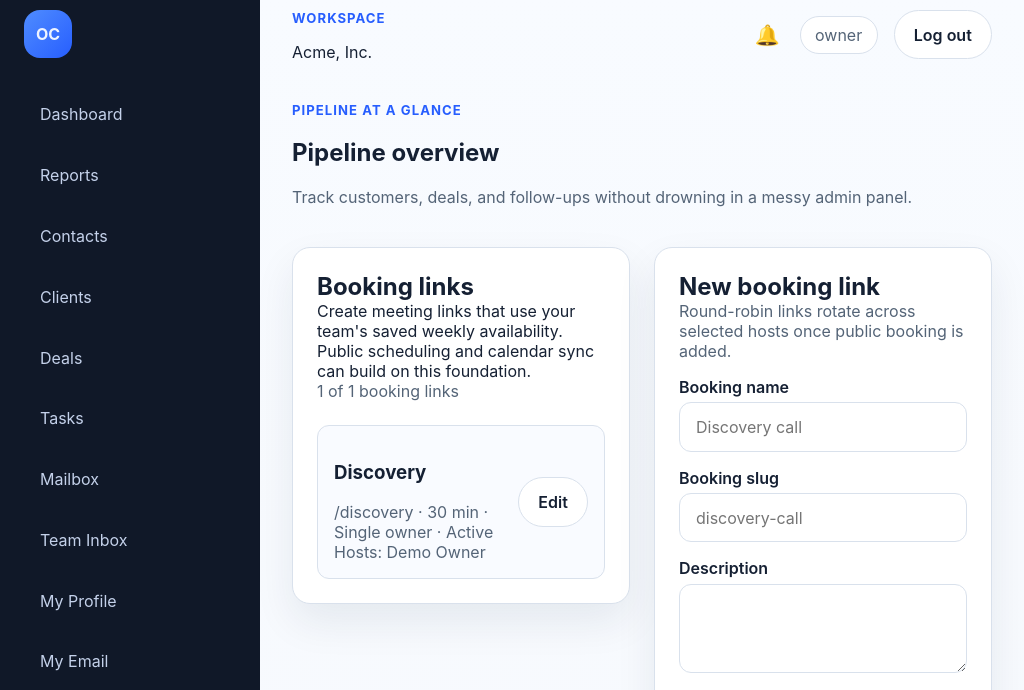
Scenario: settings calendar route › disables only new catalog entries at capacity and keeps editing available
Expected: the text "1 of 1 booking links" is shown, [317,381,459,401]
Expected: the heading "New booking link" is shown, [679,272,880,301]
Click the button "Edit".
click(553, 502)  # box [518,477,588,527]
(page scrolled)
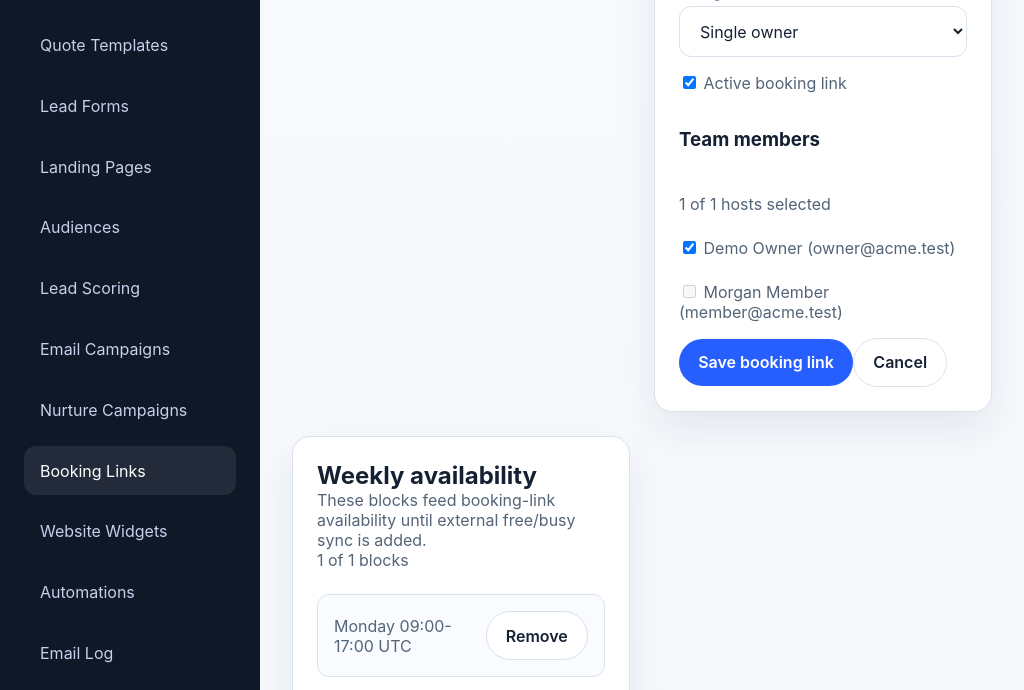
Expected: the checkbox labelled "Morgan Member (member@acme.test)" is disabled, [683,285,696,298]
Result: the button "Save booking link" is enabled at [679,339,853,386]
